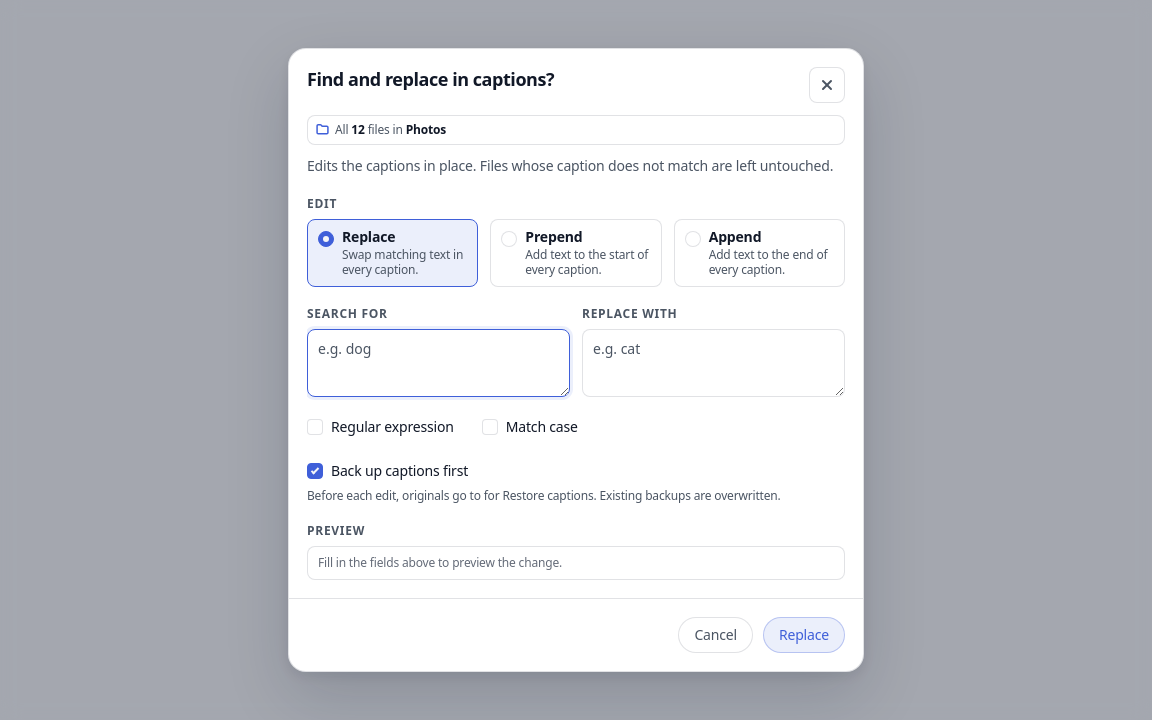
Test case: ReplaceCaptionsDialog › explains dollar capture groups once regex is on
Expected: the text "capture groups" is not shown
Step 1. Click the checkbox labelled "Regular expression" → (380, 427), box [307,415,454,439]
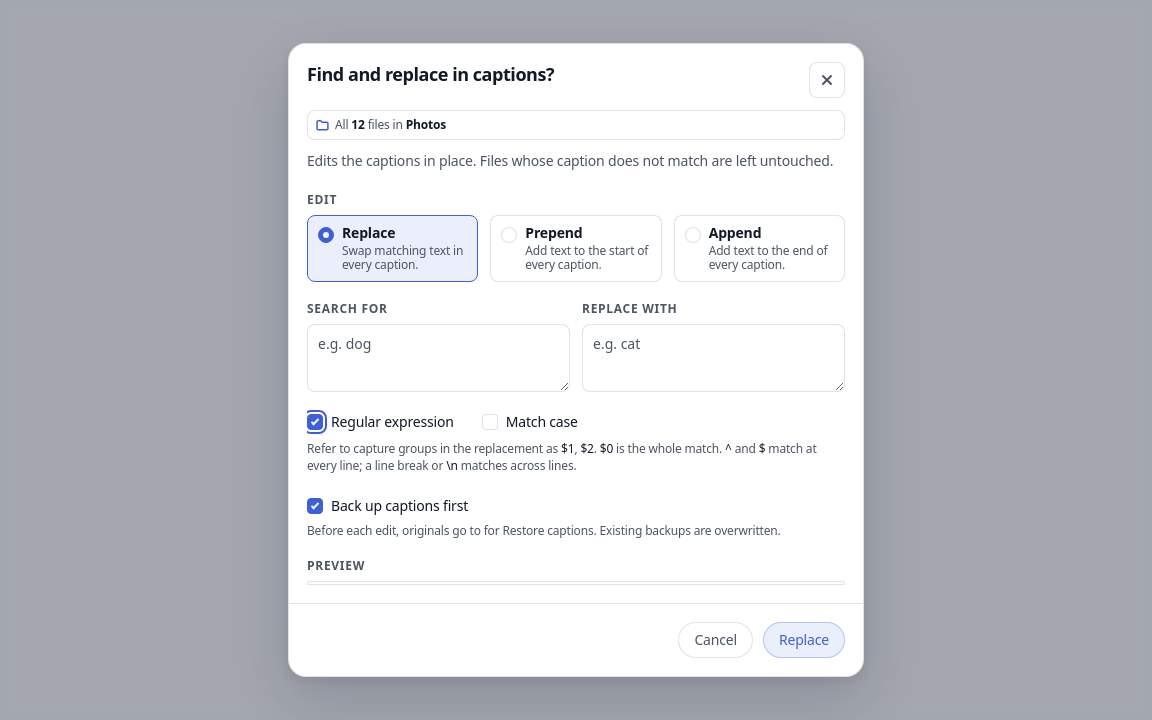
Result: the text "capture groups" shows "$1" at [561,440,574,457]
Result: the text "capture groups" shows "$2" at [580,440,594,457]
Result: the text "capture groups" shows "$0" at [600,440,613,457]
